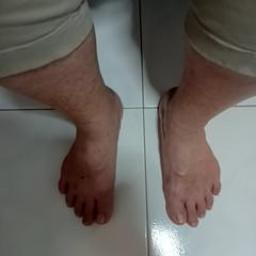Dorsal View -Both Feet-: (21, 75, 253, 242)
